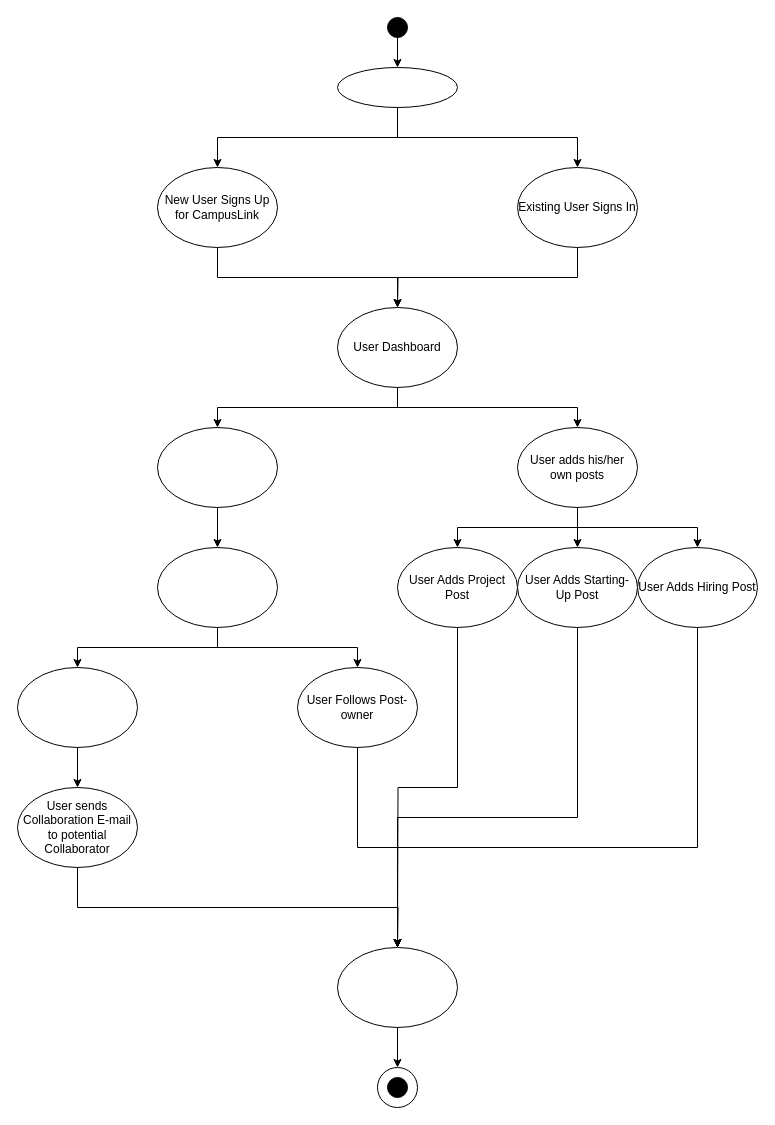
Image size: 775x1125. Some labels were removed from this diagram. Each missing label, with the box of its shape:
User Clicks on Post-owner's Account: (156, 546, 278, 628)
User Collaborates with Post-owner: (16, 666, 138, 748)
User Logs Out: (336, 946, 458, 1028)
User Scrolls through recommended posts: (156, 426, 278, 508)
Welcome Page: (336, 66, 458, 108)
